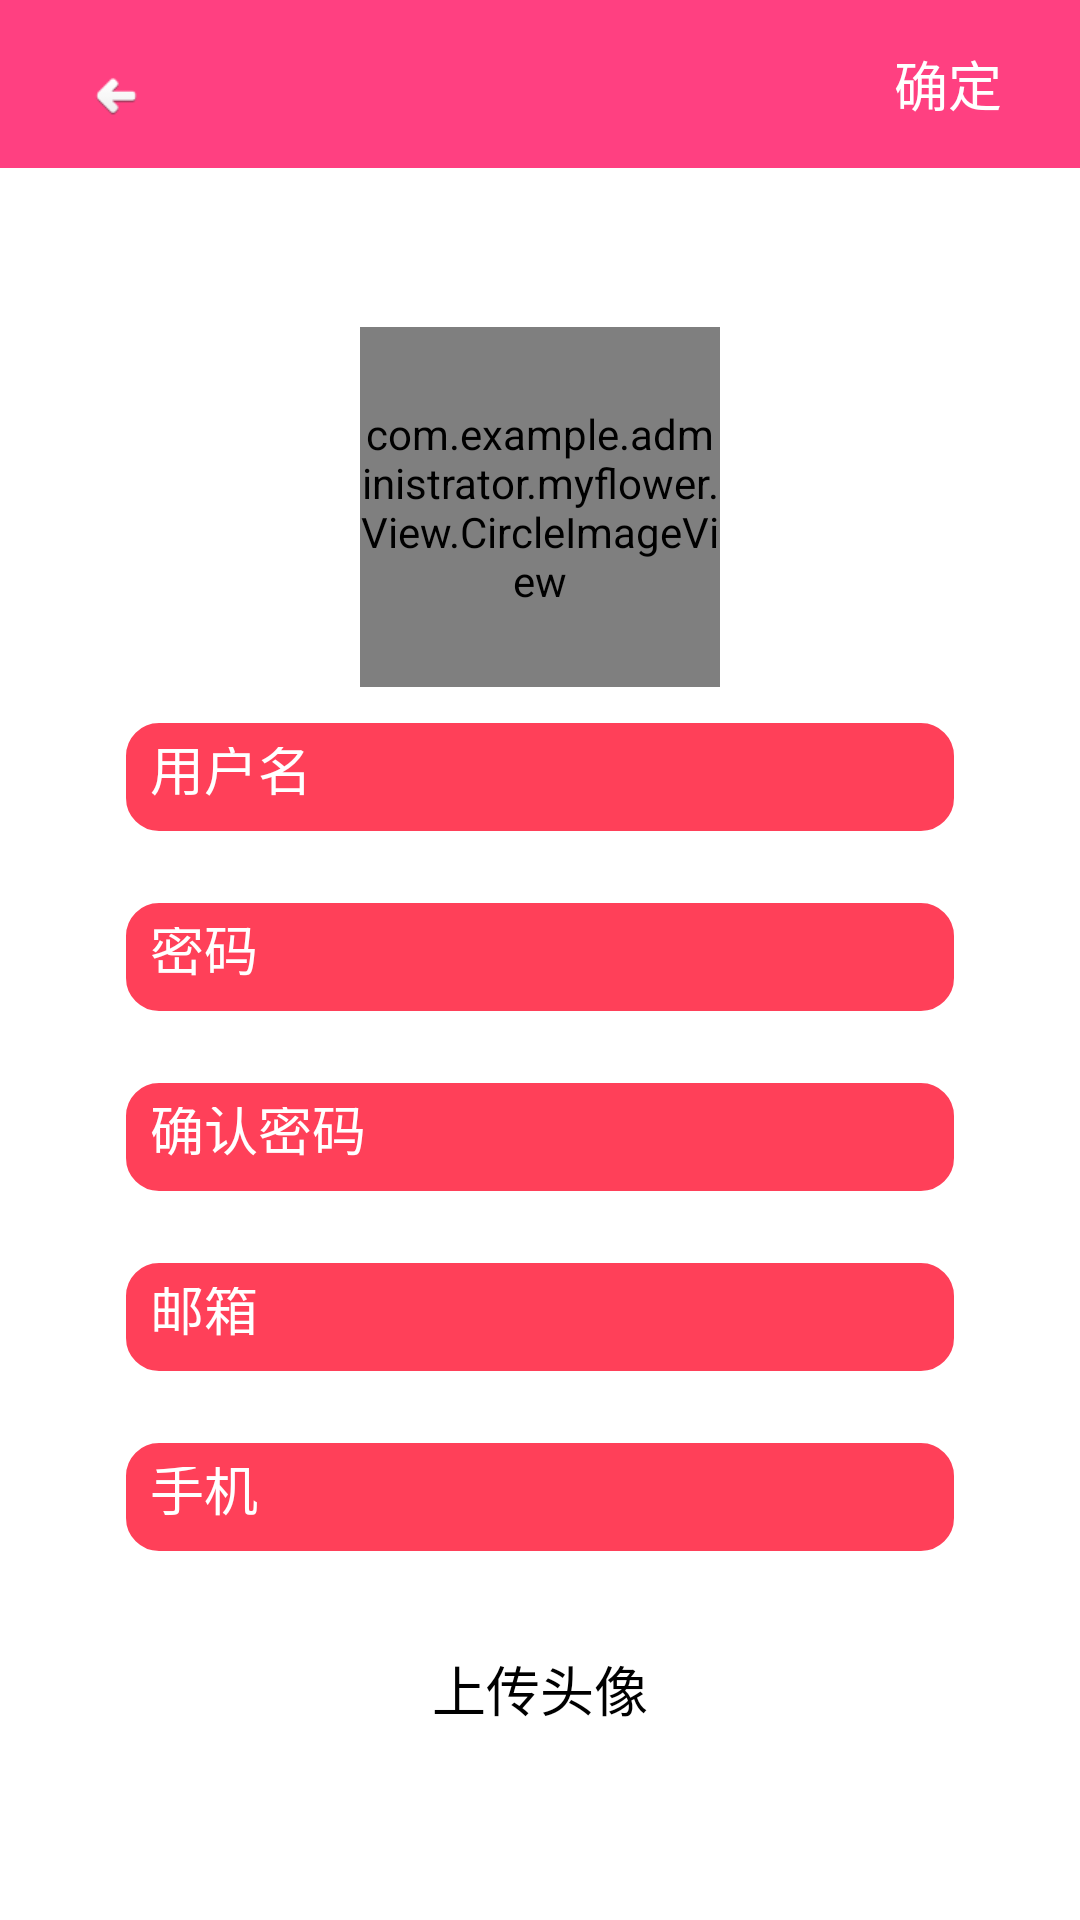

Screen size 1080 x 1920. Icon name, then its box in pixels as [x1, y1, x2, y2]:
detail back: [96, 78, 137, 115]
